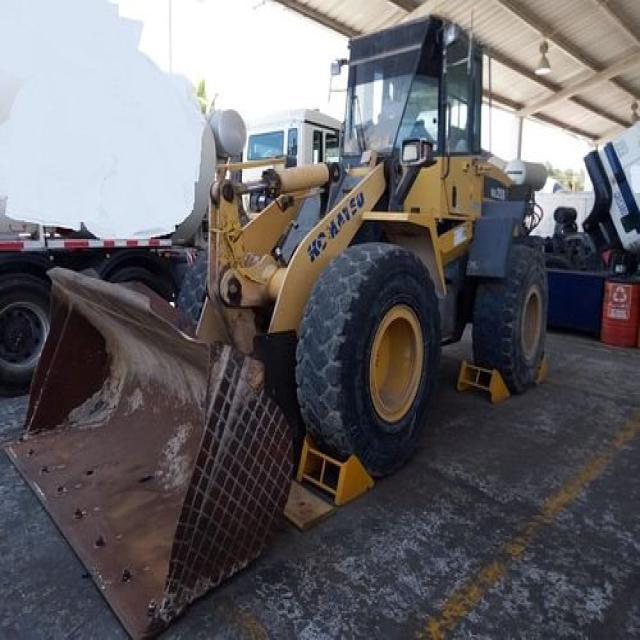buldozerpayloadergrader: (15, 18, 556, 630)
